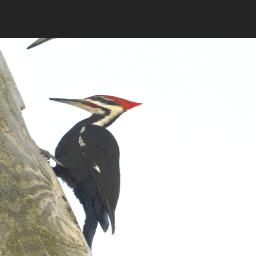Woodpecker: (20, 81, 199, 240)
